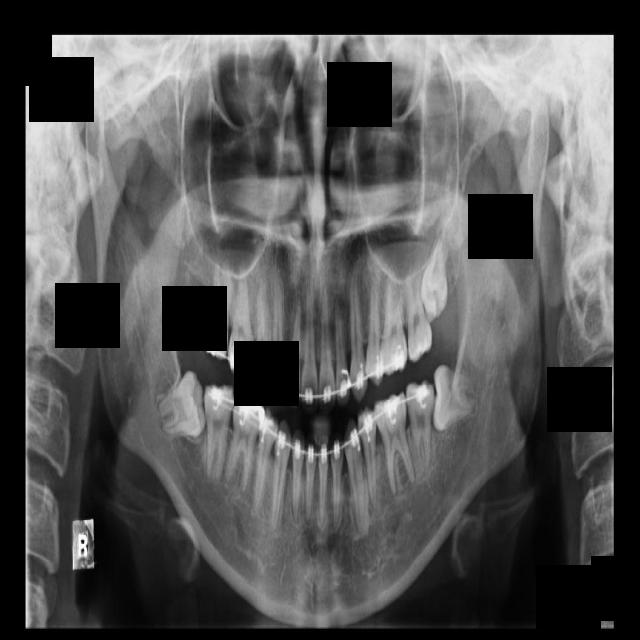52: (220, 390, 270, 442)
73: (595, 586, 598, 598)
BioHorizons Implant: (404, 255, 434, 363)
BioLife Implant: (419, 232, 448, 317)
Biomet 3i Implant: (431, 364, 478, 433)
Blue Sky Bio Implant: (406, 379, 435, 474)
Caries: (200, 257, 238, 360)
Implant: (203, 382, 237, 482)
Keystone Dental Implant: (154, 368, 207, 440)
